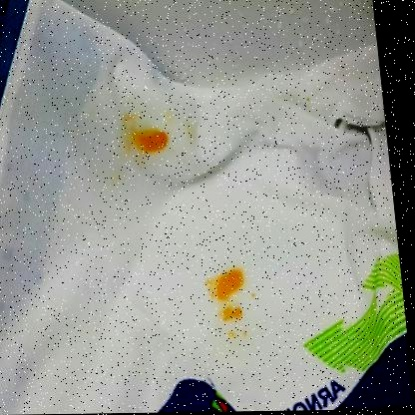kimchi: (125, 129, 171, 161), (213, 271, 244, 300), (217, 303, 242, 321), (229, 326, 248, 341), (114, 113, 133, 125), (250, 293, 254, 300)
